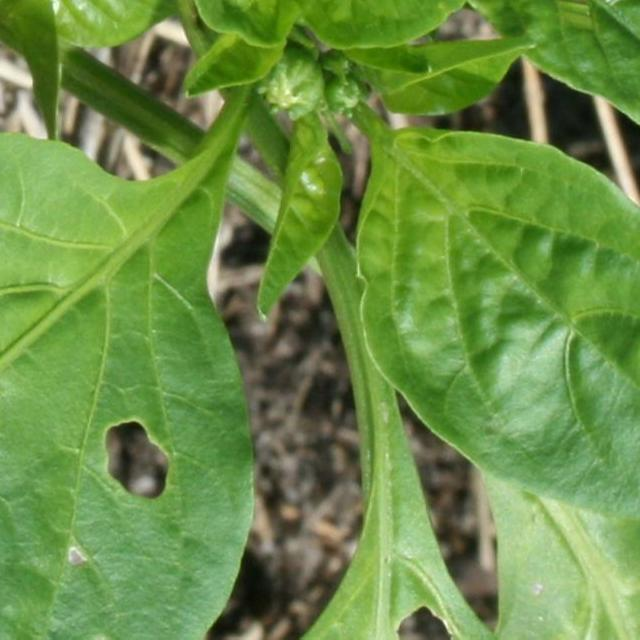Tomato leaf: (0, 135, 287, 640), (0, 431, 568, 640)
